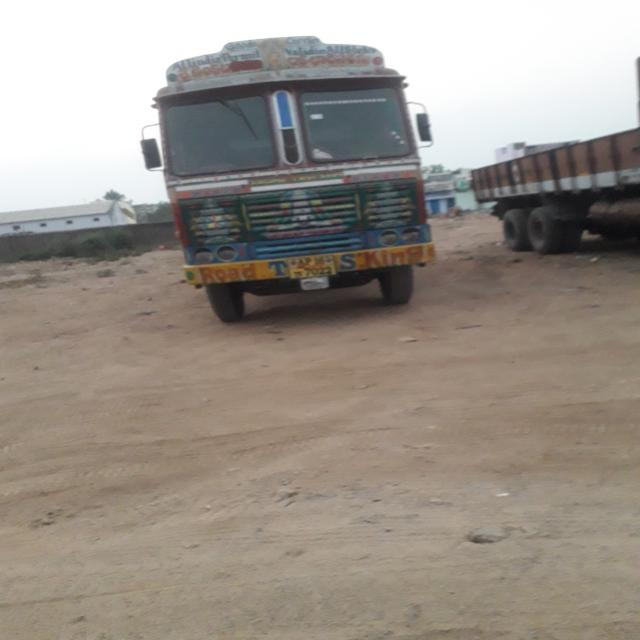Truck: (134, 24, 422, 318), (450, 114, 639, 255)
